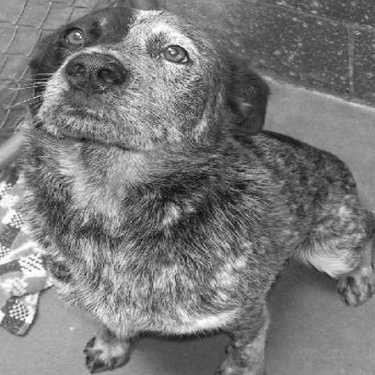dog: (18, 1, 372, 374)
